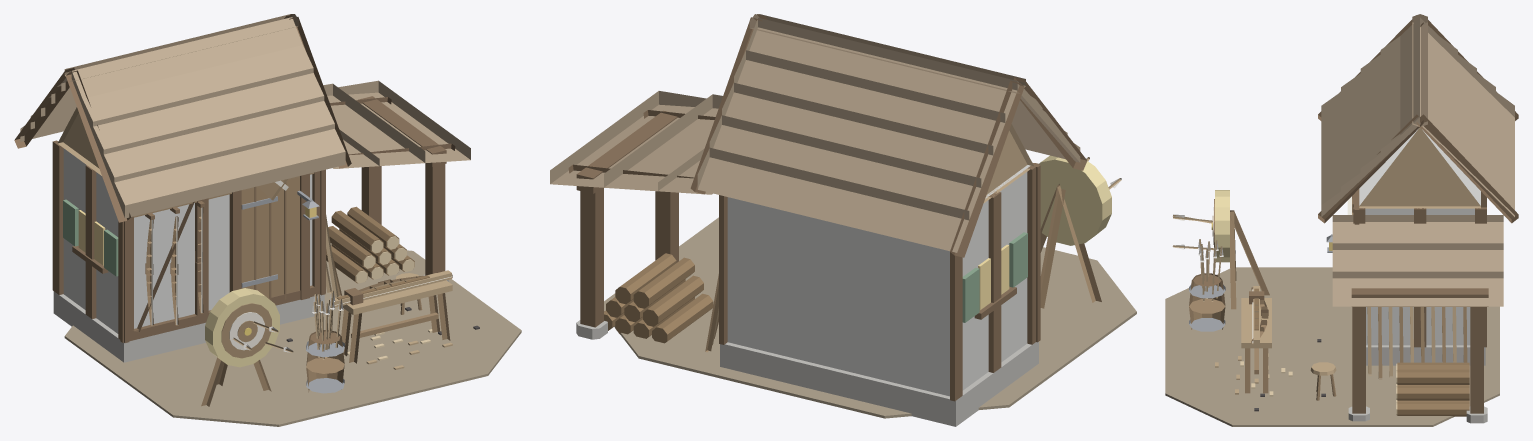
Rendered from bowyer.glb.
The picture shows the model from 3 angles, left to right: view 1: azimuth 30°, elevation 25°; view 2: azimuth 150°, elevation 25°; view 3: azimuth 270°, elevation 25°; orthographic projection. The views are drawn at different scales.
Parts seen in each view (by area): view 1: Ground, Walls, Roof, Roof#2, Roof#3, Roof#4, Roof#5, Door, Plinth, Lean.Roof#2, Lean.Roof, Target (+34 smaller); view 2: Walls, Ground, Roof#6, Roof#7, Roof#8, Roof#9, Plinth, Roof#10, Lean.Roof#2, Target, Lean.Roof, Lean.Post (+25 smaller); view 3: Ground, Gable#2, Lean.Roof#2, Lean.Roof, Lean.Roof#3, Walls, Roof#3, Roof#4, Roof, Roof#2, Roof#5, Roof#6 (+23 smaller).
Part boxes in pixels (x1,y1,x2,y2): Ground: (64, 243, 521, 426); Walls: (63, 148, 312, 333); Roof: (114, 129, 345, 218); Roof#2: (103, 101, 334, 189); Roof#3: (93, 73, 324, 161); Roof#4: (82, 45, 313, 133); Roof#5: (71, 17, 302, 105); Door: (241, 177, 299, 297); Plinth: (53, 291, 324, 362); Lean.Roof#2: (323, 83, 425, 165); Lean.Roof: (338, 80, 470, 162); Target: (205, 288, 279, 367); Walls: (727, 165, 1030, 396); Ground: (604, 217, 1136, 418); Roof#6: (697, 147, 969, 252); Roof#7: (709, 115, 981, 219); Roof#8: (722, 82, 993, 186); Roof#9: (734, 50, 1005, 154); Plinth: (720, 342, 1038, 426); Roof#10: (746, 18, 1017, 122); Lean.Roof#2: (604, 94, 722, 191); Target: (1039, 155, 1111, 245); Lean.Roof: (550, 91, 706, 187); Lean.Post: (580, 166, 603, 327); Ground: (1165, 267, 1499, 426); Gable#2: (1359, 127, 1480, 208); Lean.Roof#2: (1332, 243, 1503, 271); Lean.Roof: (1332, 271, 1503, 306); Lean.Roof#3: (1332, 215, 1503, 243); Walls: (1359, 128, 1480, 345); Roof#3: (1360, 55, 1380, 179); Roof#4: (1380, 36, 1400, 161); Roof: (1321, 92, 1340, 216); Roof#2: (1341, 73, 1360, 198); Roof#5: (1400, 18, 1419, 142); Roof#6: (1496, 92, 1514, 216).
Size of the model in its own units: 5.01 by 3.7 by 4.64.
